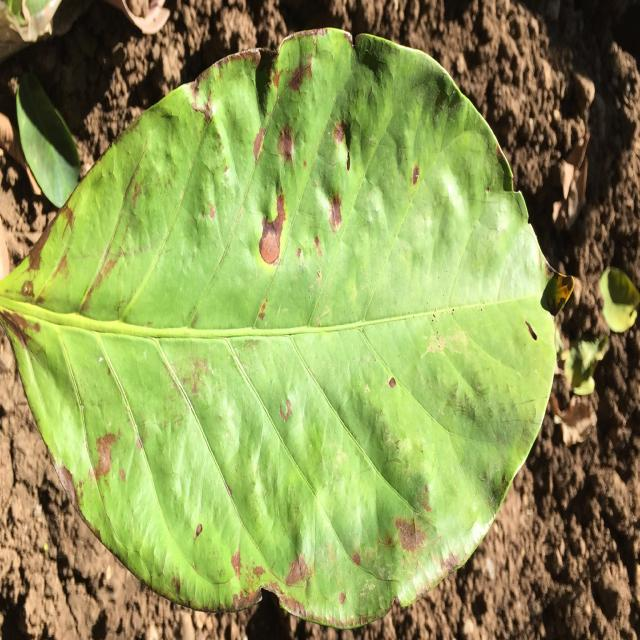Enfermedad-Mancha-de-hierro: (0, 30, 559, 628)
